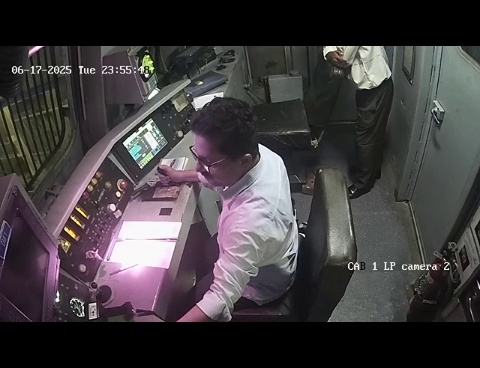horn_inactive: (79, 275, 130, 314)
